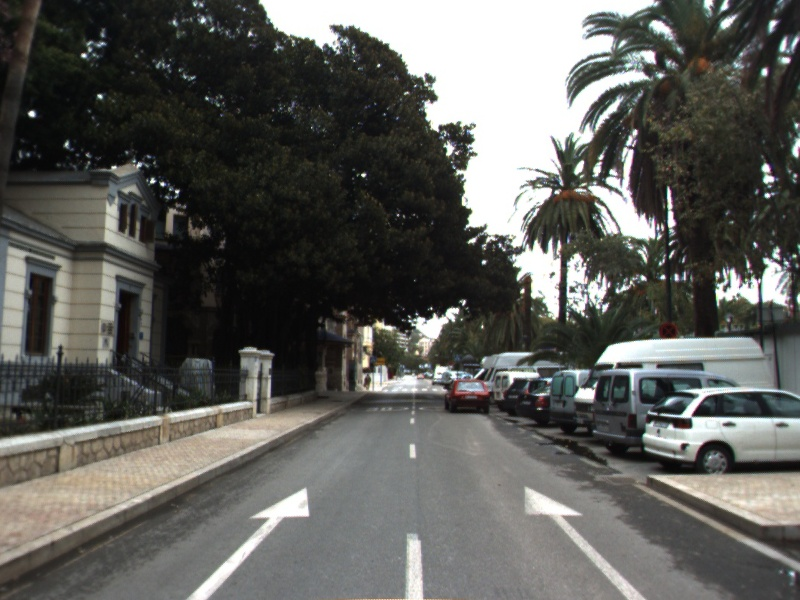STRAIGHT: (180, 482, 313, 600), (521, 483, 649, 600)
